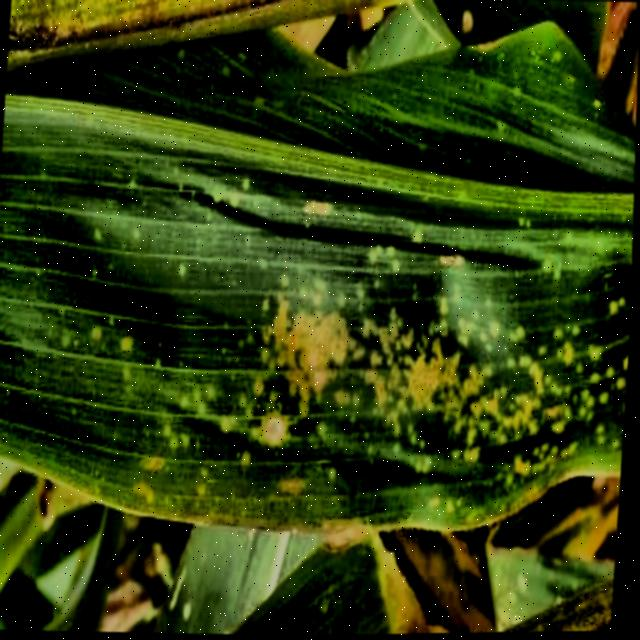common_rust: (0, 17, 639, 568)
